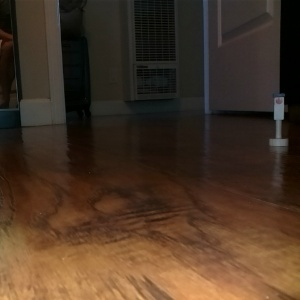traffic light red: (268, 91, 289, 148)
